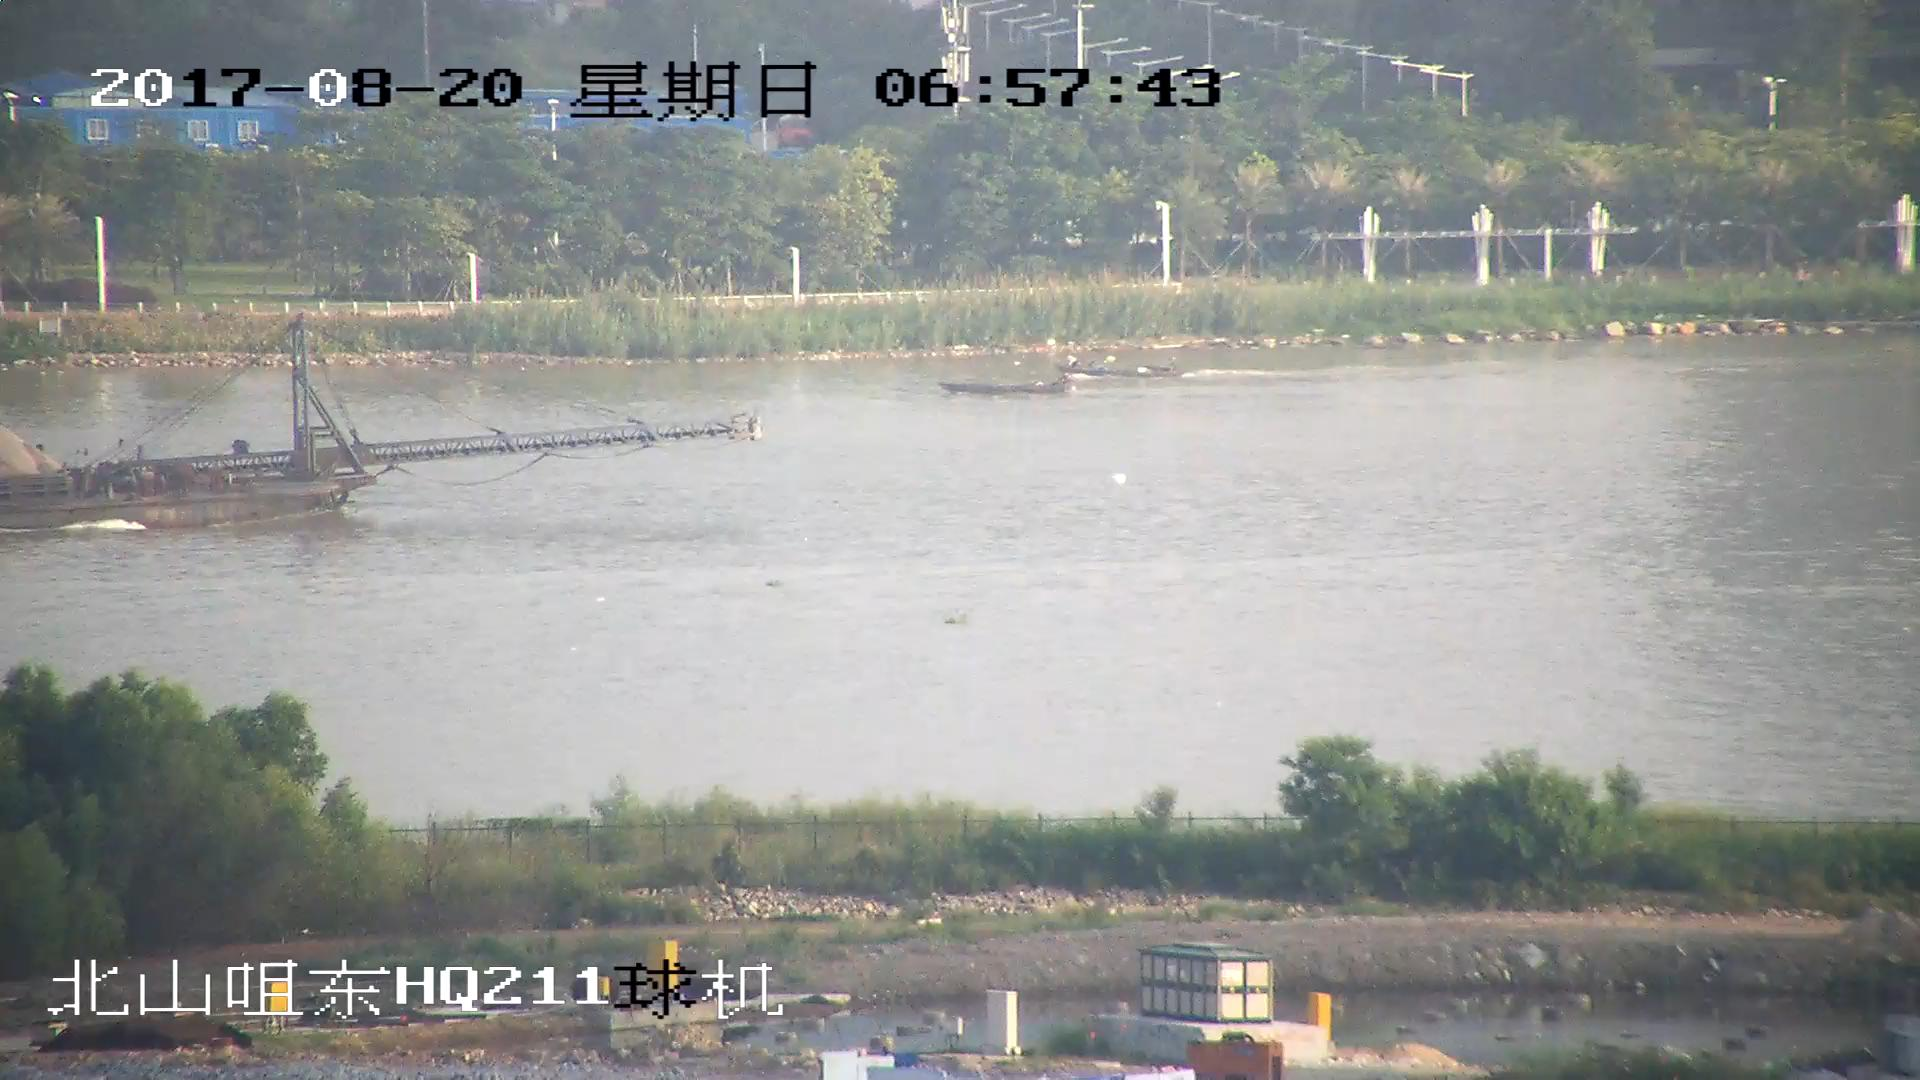fishing boat: (939, 370, 1079, 404), (1066, 352, 1181, 385)
ore carrier: (1, 310, 764, 530)
